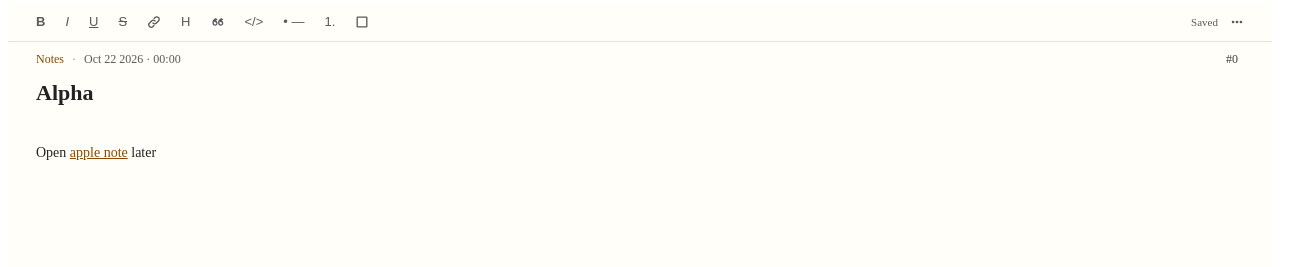
Test: Cmd+click a link the modifier may not open shows its chip
This screenshot has width=1292, height=267.
Click the link "apple note" at (99, 152), box [70,145,128,160]
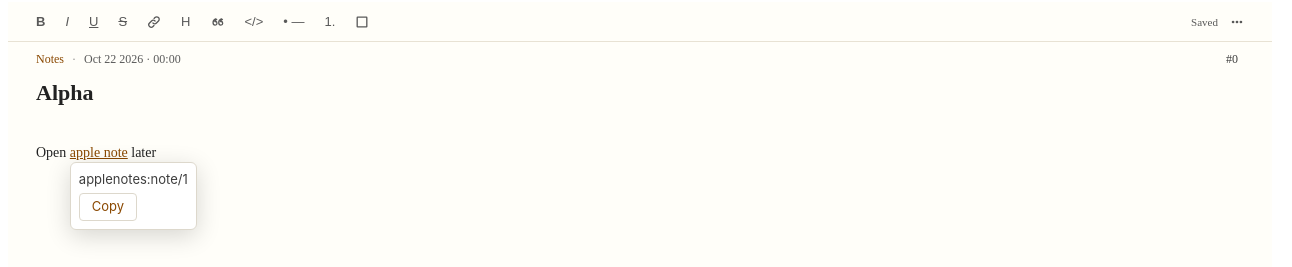
Now the element with class "link-chip" is shown, box [70,162,197,230]
Now the element with class "link-chip" shows "applenotes:note/1", box [79,171,188,187]
